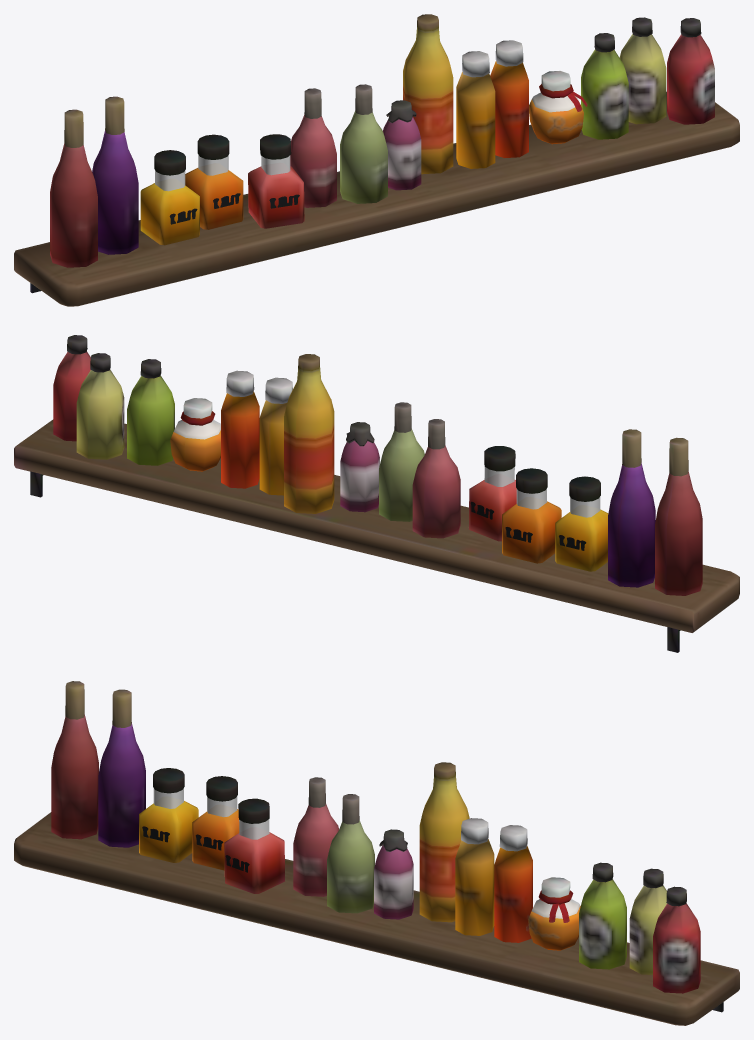
3 renders of one model, top to bottom at view 1: azimuth 30°, elevation 25°; view 2: azimuth 150°, elevation 25°; view 3: azimuth 330°, elevation 25°, orthographic.
Size of the model in its own units: 20 by 5.35 by 2.64.
3 materials, 3 textured.
